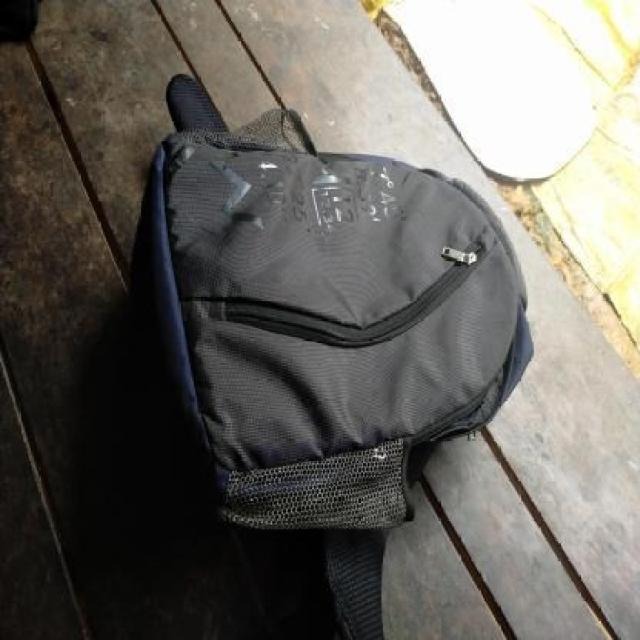backpack: (130, 69, 536, 548)
